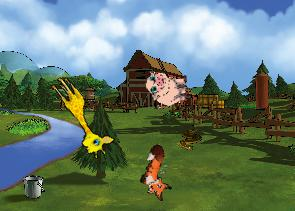fox: (133, 142, 184, 203)
giraffe: (40, 72, 118, 162)
pig: (145, 67, 190, 109)
